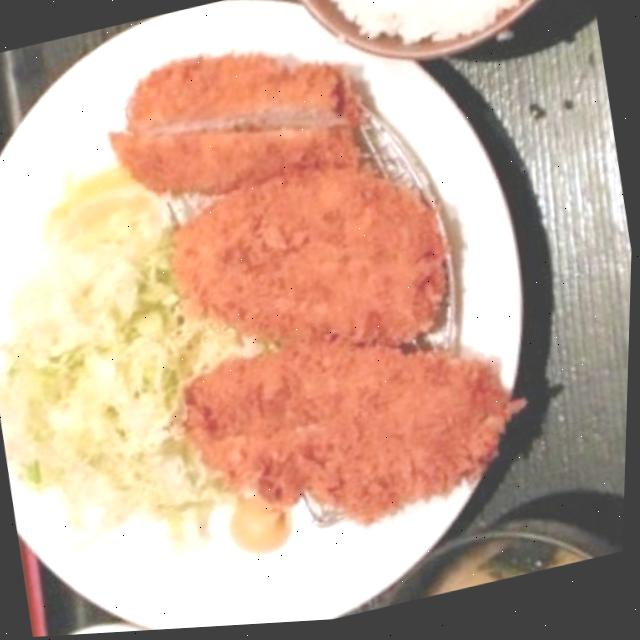牛肉菜式: (31, 0, 551, 594)
